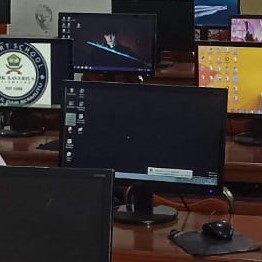monitor: (58, 79, 228, 225), (0, 165, 114, 258), (58, 12, 158, 78), (0, 37, 74, 110), (195, 41, 261, 120), (192, 0, 240, 41), (228, 15, 262, 43)
